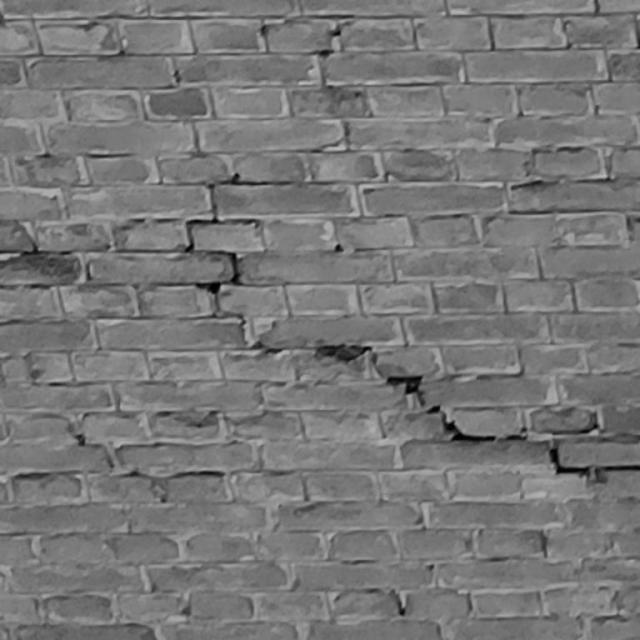crack: (313, 344, 639, 482)
